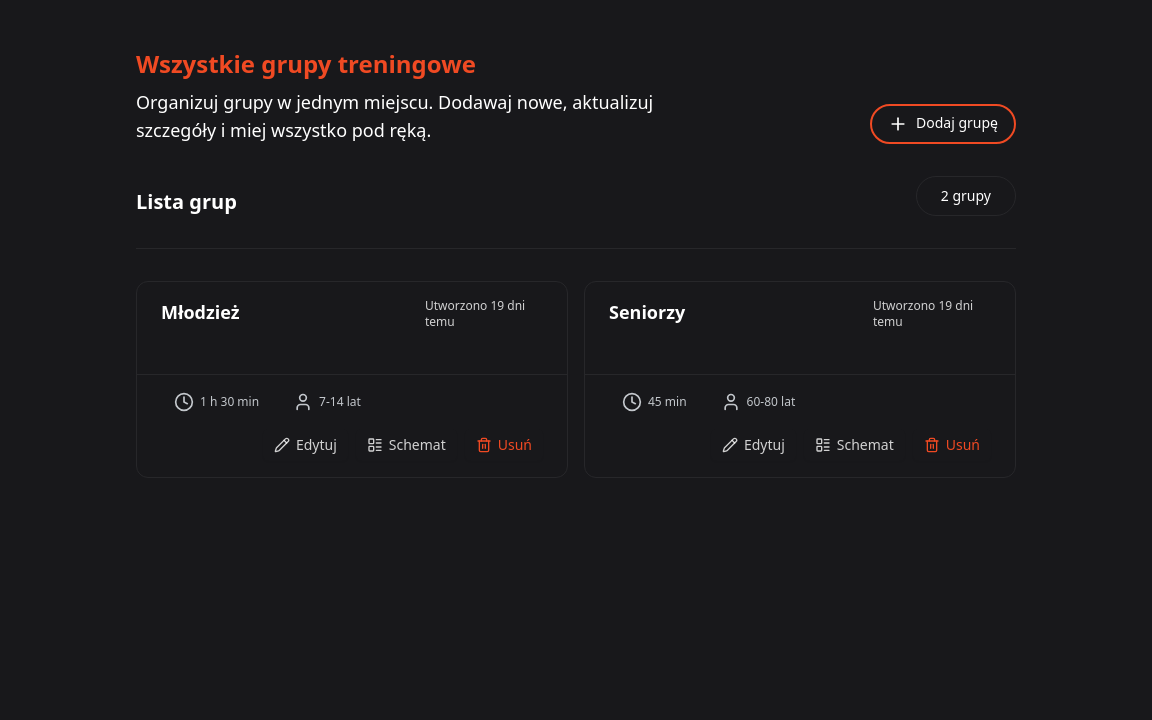
Test: GroupListPage › opens an empty create dialog after clicking Dodaj grupę
The image size is (1152, 720).
Click the button "Dodaj grupę" at (943, 124), box [870,104,1016,144]
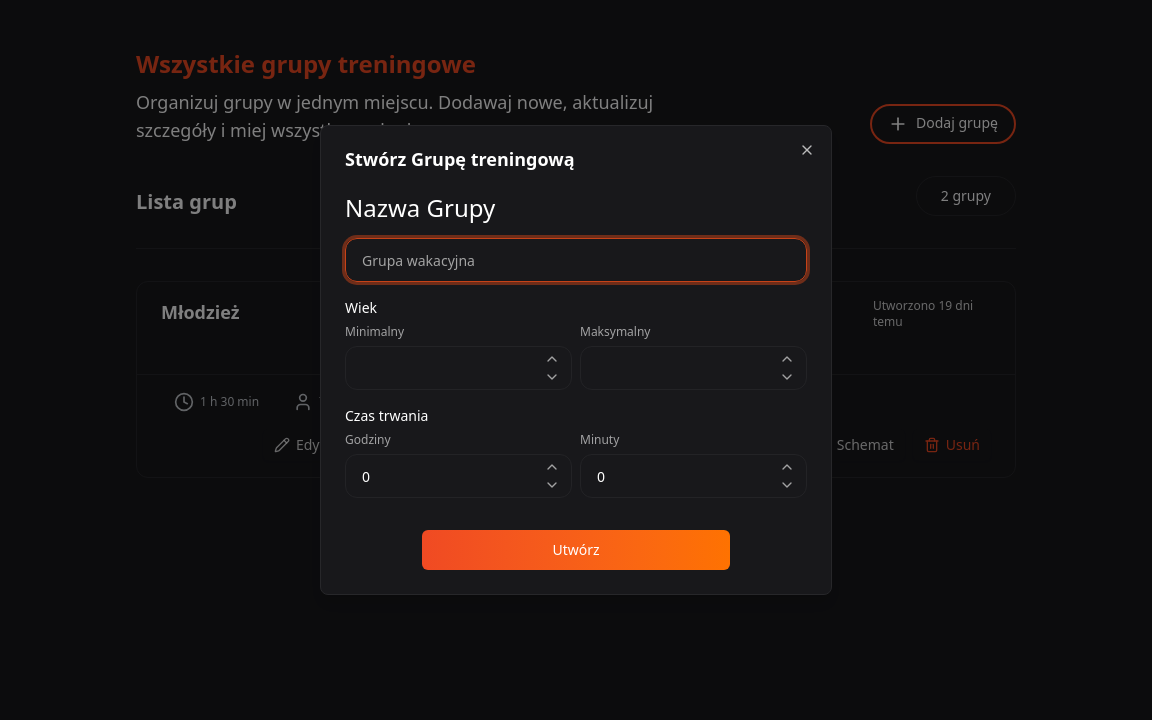
Now the dialog is shown, box [320,125,832,595]
Now the heading "Stwórz Grupę treningową" is shown, box [345,147,574,171]
Now the field labelled "Nazwa Grupy" is empty, box [345,238,807,282]
